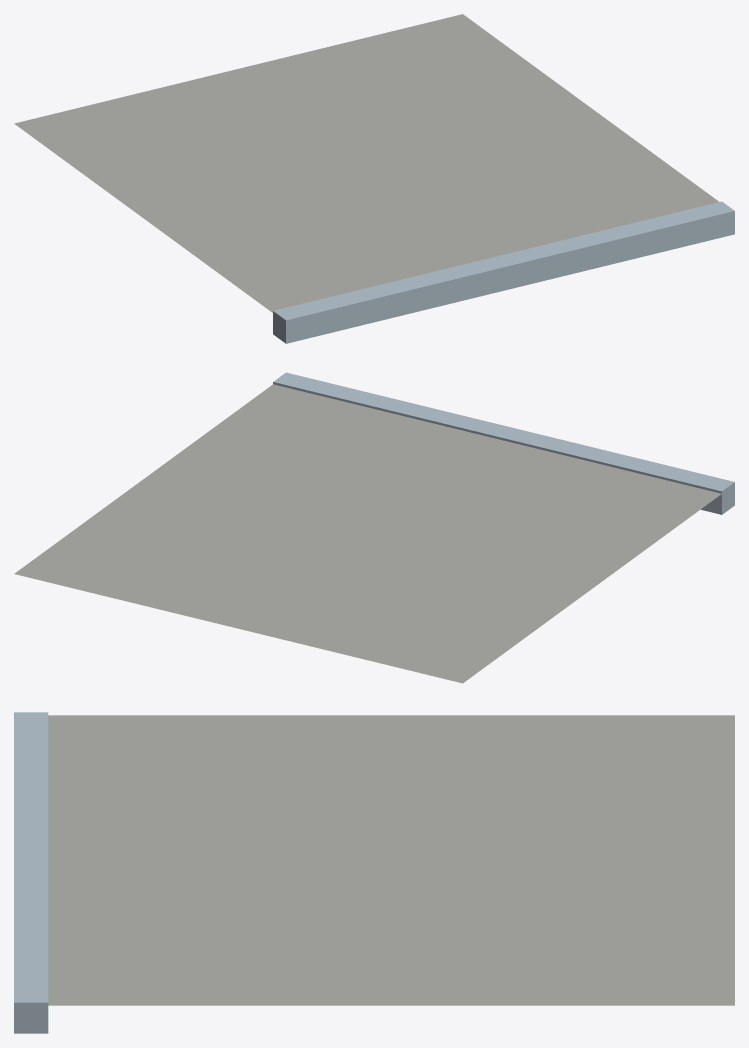
Rendered from Walkroad_1type.FBX.
3 renders of one model, top to bottom at view 1: azimuth 30°, elevation 25°; view 2: azimuth 150°, elevation 25°; view 3: azimuth 270°, elevation 25°, orthographic. The views are drawn at different scales.
Visible parts, largest first — view 1: Walkroad_1type (×2); view 2: Walkroad_1type (×2); view 3: Walkroad_1type (×2).
Boxes of the visible parts, x1,y1,x2,y2 form: Walkroad_1type (×2): (14, 14, 734, 343); Walkroad_1type (×2): (14, 372, 734, 683); Walkroad_1type (×2): (14, 712, 734, 1033).
Bounding box in the file's own units: 500 × 25 × 525.
